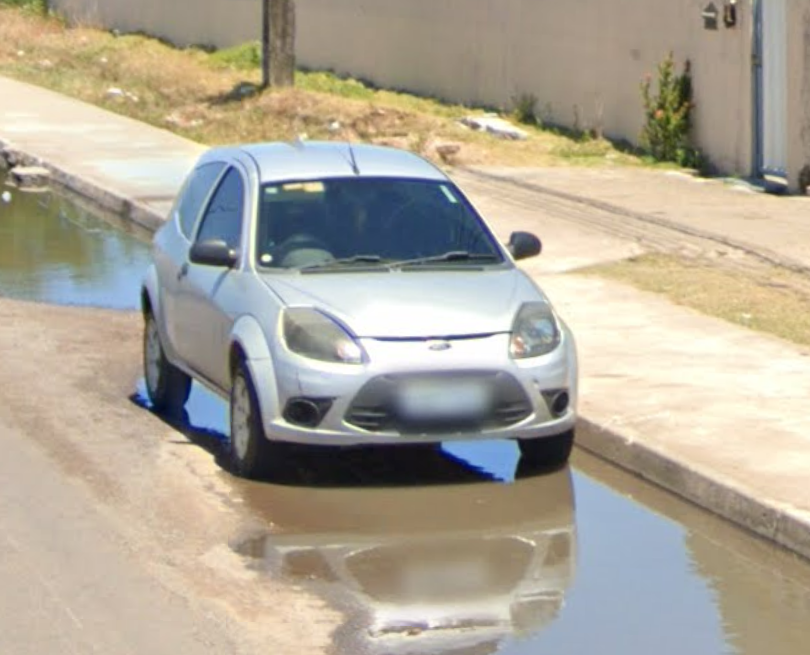car: (138, 126, 580, 478)
